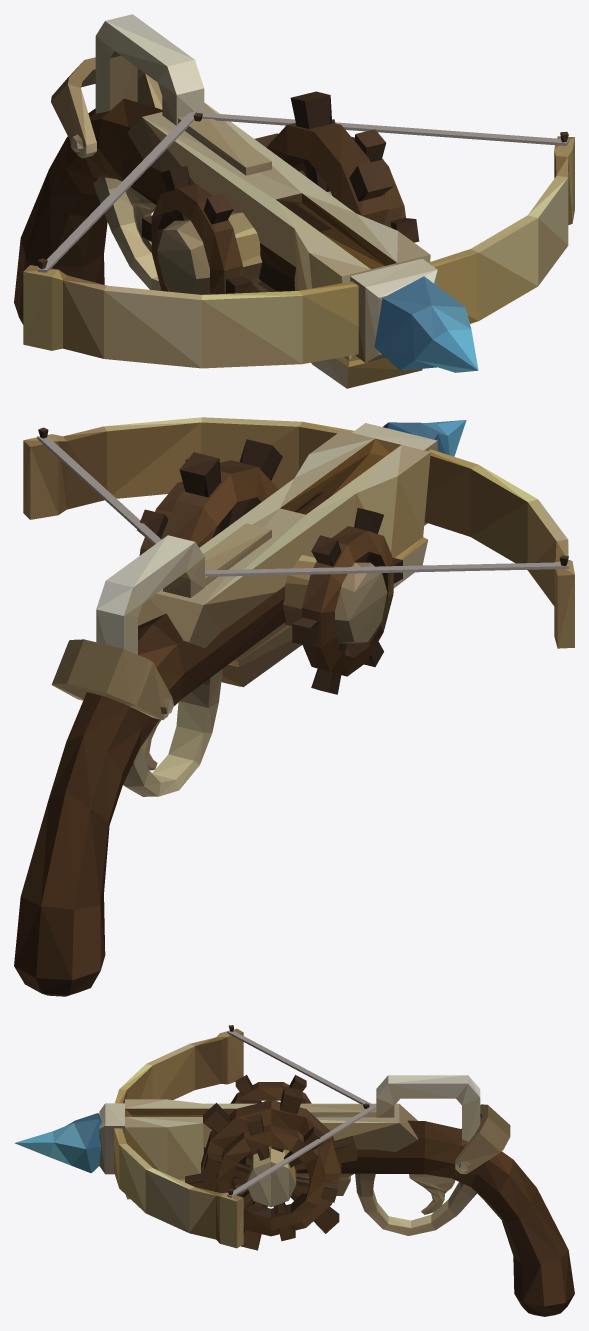
Rendered from weapon_crossbow_gold_2.fbx.
3 views of the same model, one above another, from view 1: azimuth 30°, elevation 25°; view 2: azimuth 150°, elevation 25°; view 3: azimuth 270°, elevation 25° (orthographic). The views are drawn at different scales.
Visible parts, largest first — view 1: weapon_crossbow_gold_2; view 2: weapon_crossbow_gold_2; view 3: weapon_crossbow_gold_2.
Boxes of the visible parts, x1,y1,x2,y2 form: weapon_crossbow_gold_2: [14, 14, 574, 388]; weapon_crossbow_gold_2: [14, 417, 574, 996]; weapon_crossbow_gold_2: [14, 1025, 574, 1316].
Bounding box in the file's own units: 0.8673 × 0.5559 × 1.19.
